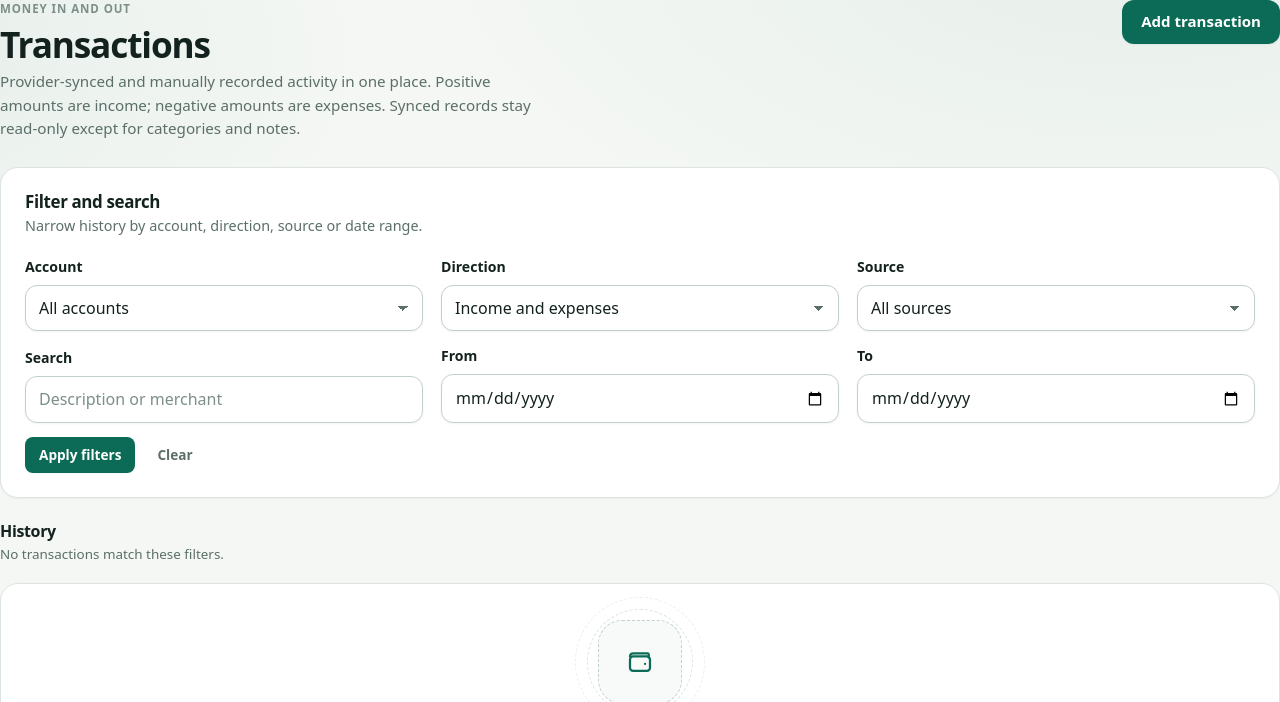
Test: transaction spending awareness › shows stored awareness before storing significant spending
Click the button "Add transaction". click: click(1201, 22)
box: [1122,0,1279,44]
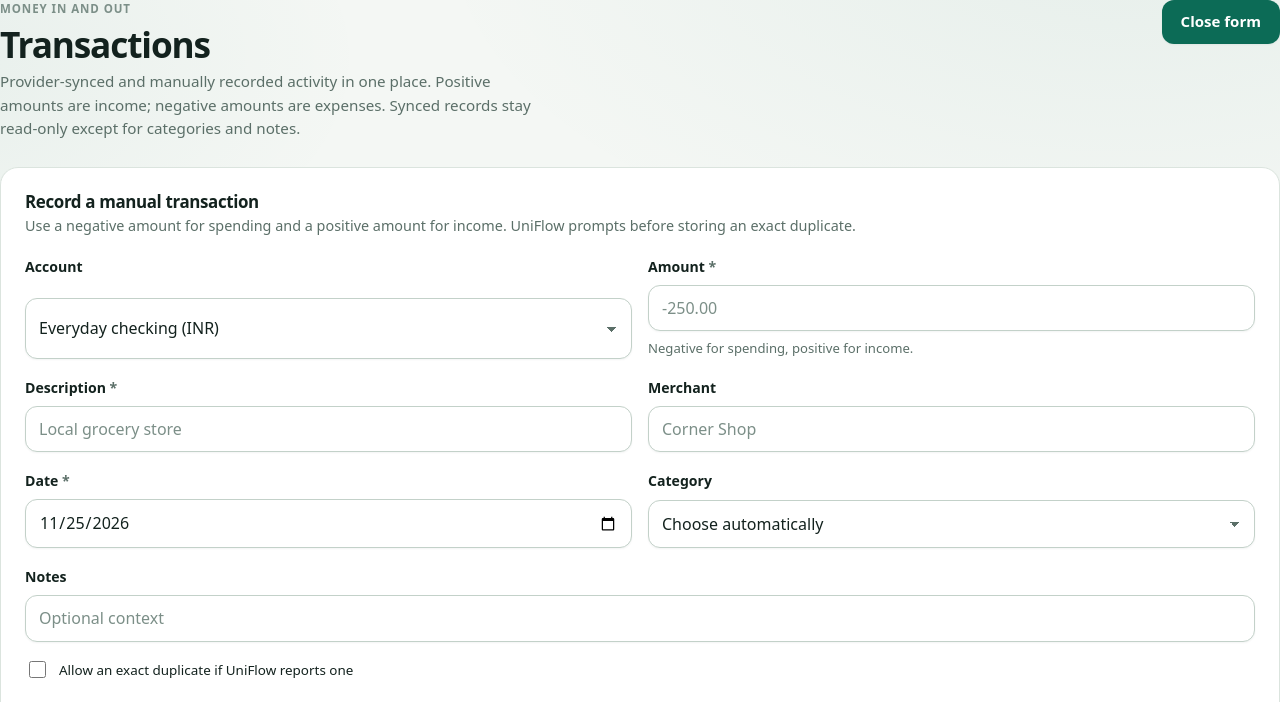
Type "-12000" into the number field labelled "Amount *". click: (952, 308)
box: [648,285,1255,331]
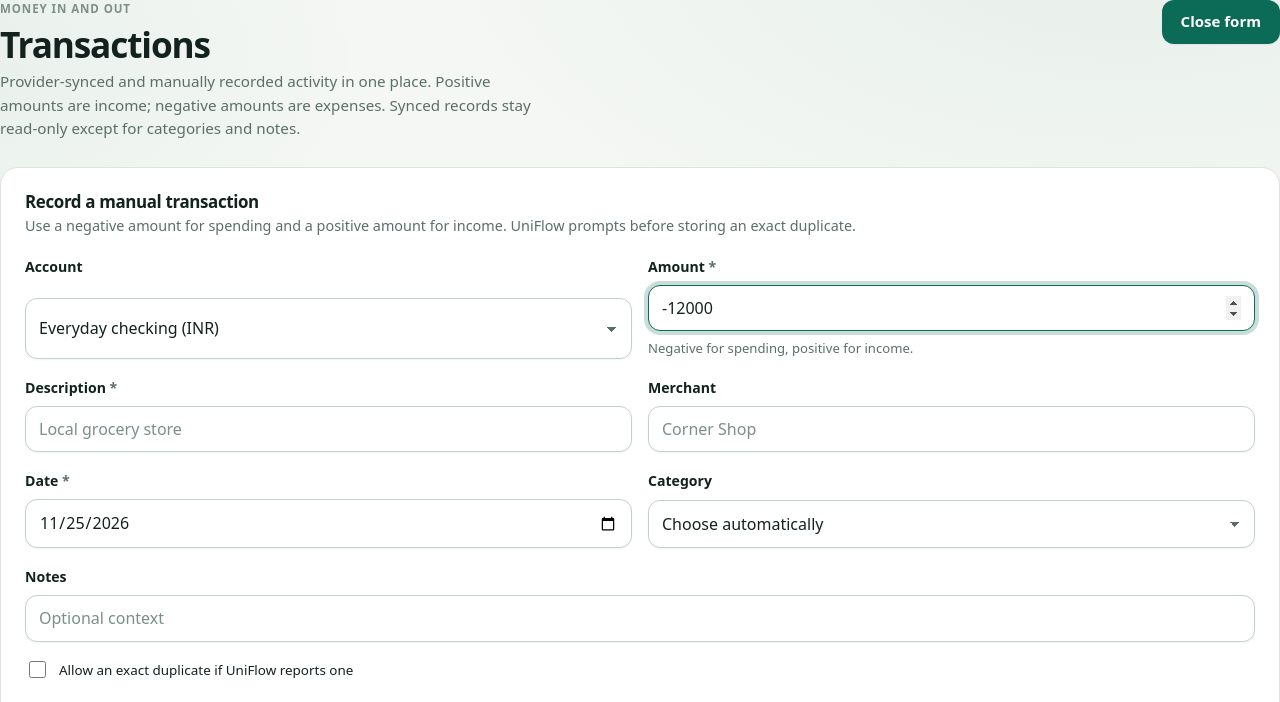
Type "Designer furniture" into the field labelled "Description *". click: (328, 429)
box: [25,406,632,452]
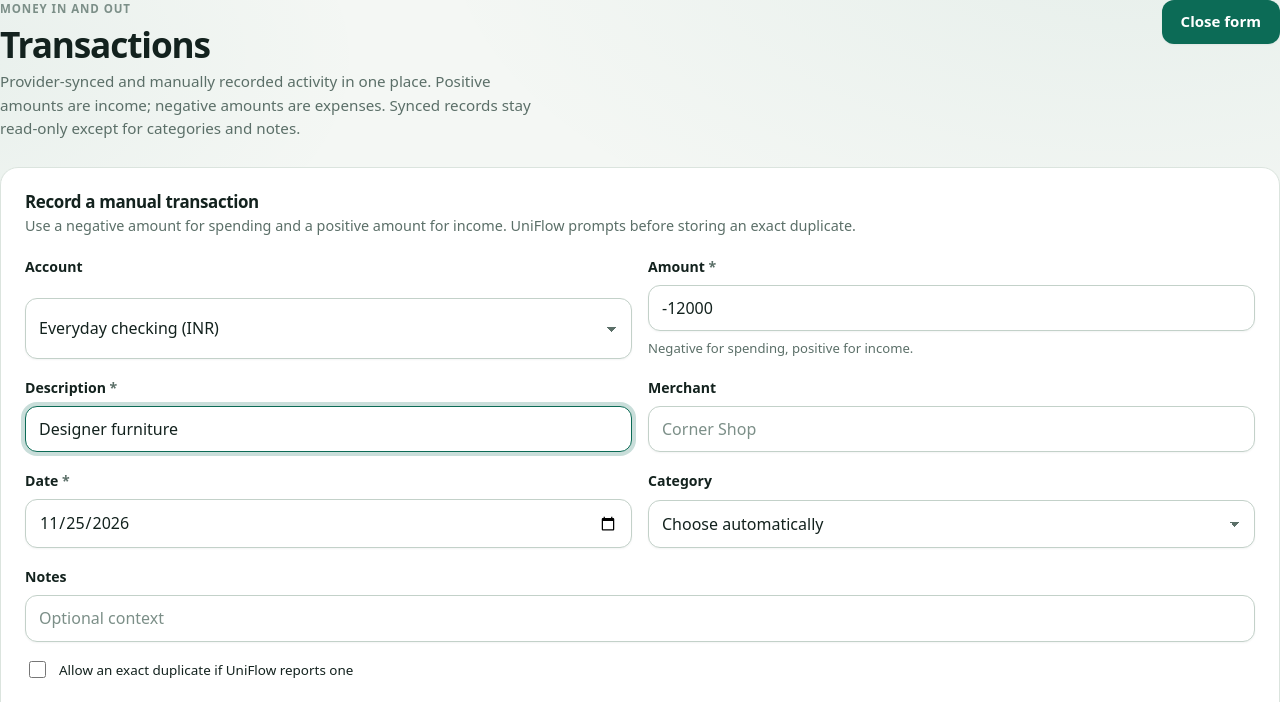
Type "Luxury Store" into the field labelled "Merchant". click: (952, 429)
box: [648,406,1255,452]
(page scrolled)
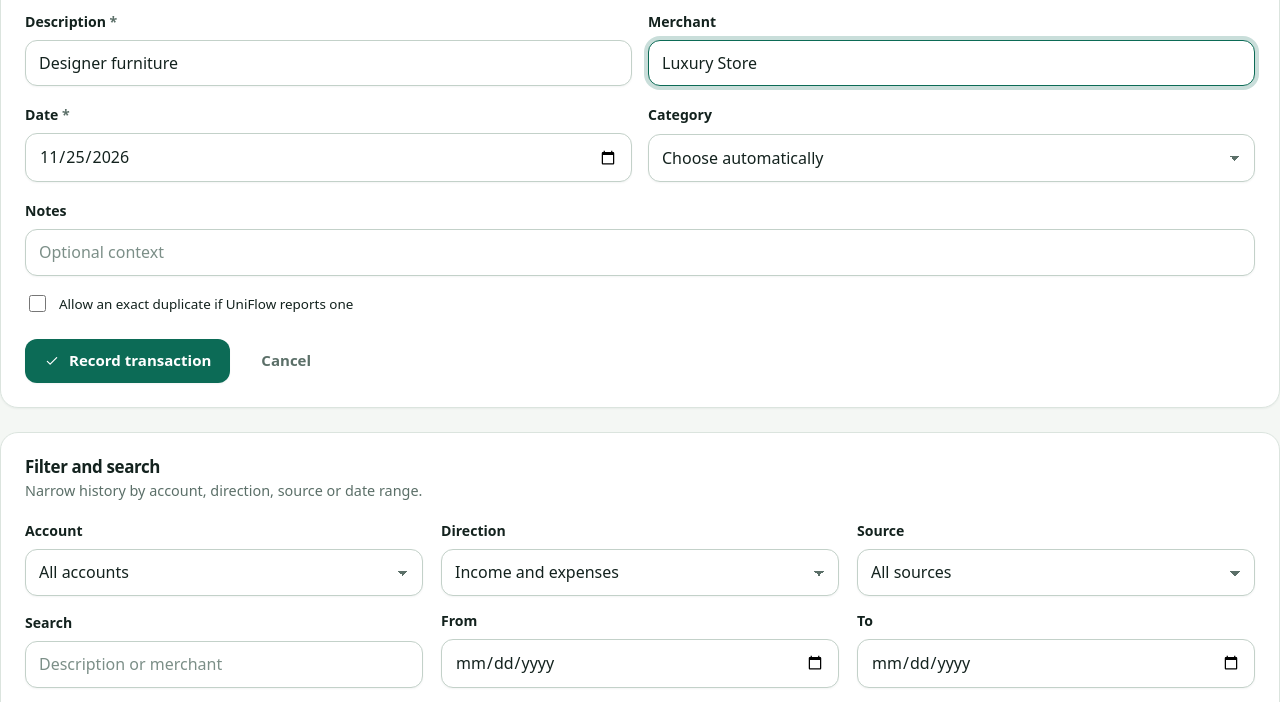
Click the button "Record transaction". click: click(128, 361)
box: [25,339,230,383]
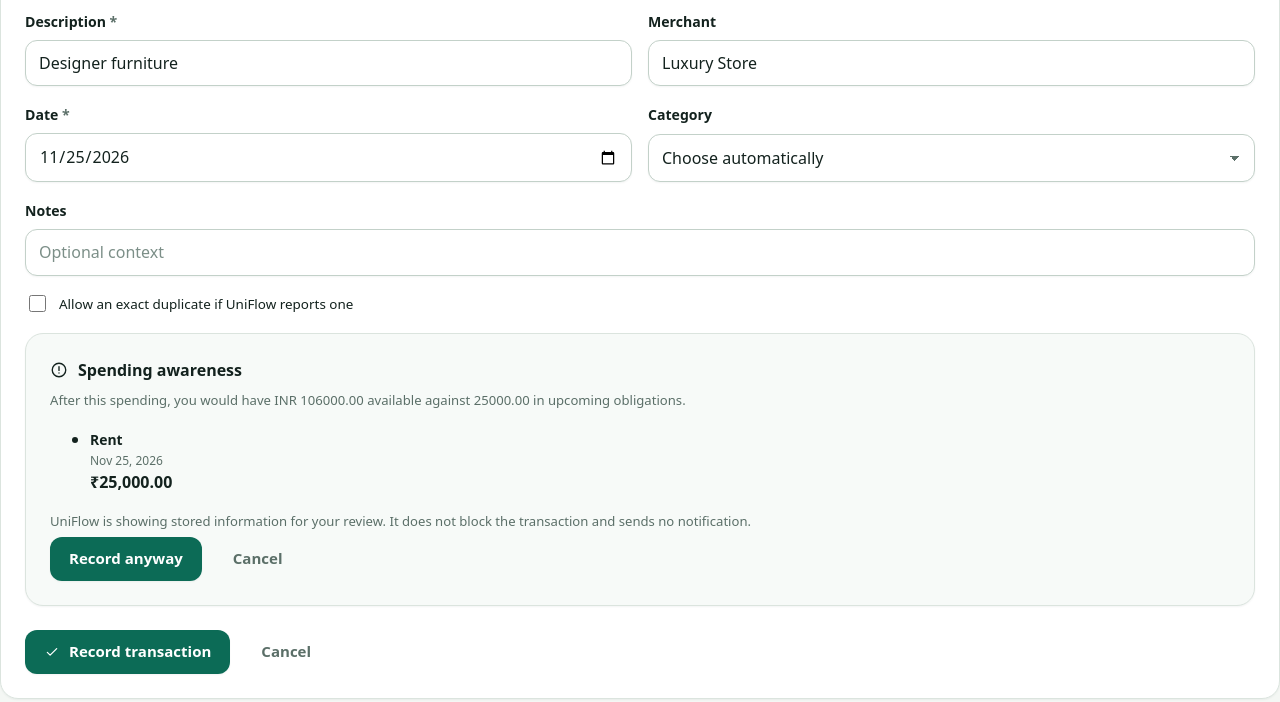
Result: the text "Spending awareness" is shown at [78,358,242,382]
Result: the text "upcoming obligations" is shown at [50,391,686,409]
Result: the text "Rent" is shown at [90,430,123,449]
